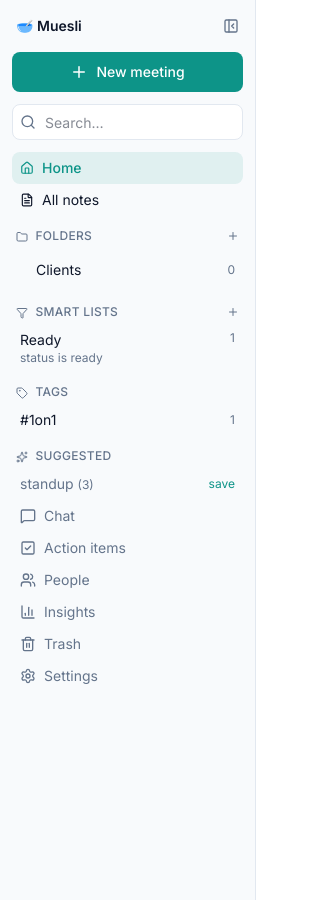
it: Sidebar › USE06: focus inside a folder row reveals the More-actions button with item-specific aria-label
This screenshot has width=320, height=900.
Note: Fire a focus event on the folder name button (triggers React onFocus → setFocusedFolderId)
Focus the button "Clients 0" at (136, 270), box [36,260,235,280]
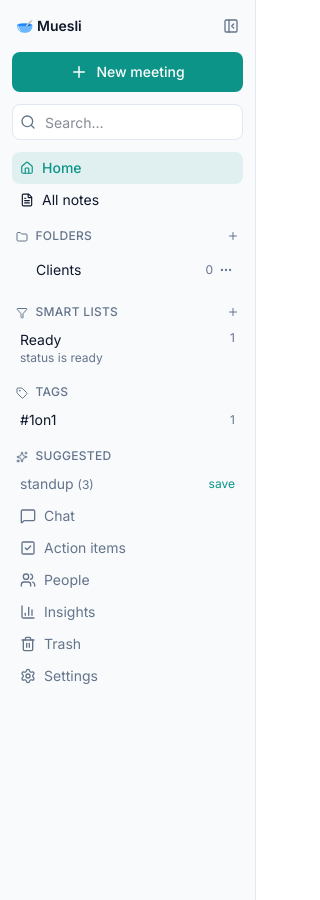
Expected: the button named "more actions for clients" is shown, [217,261,235,279]
